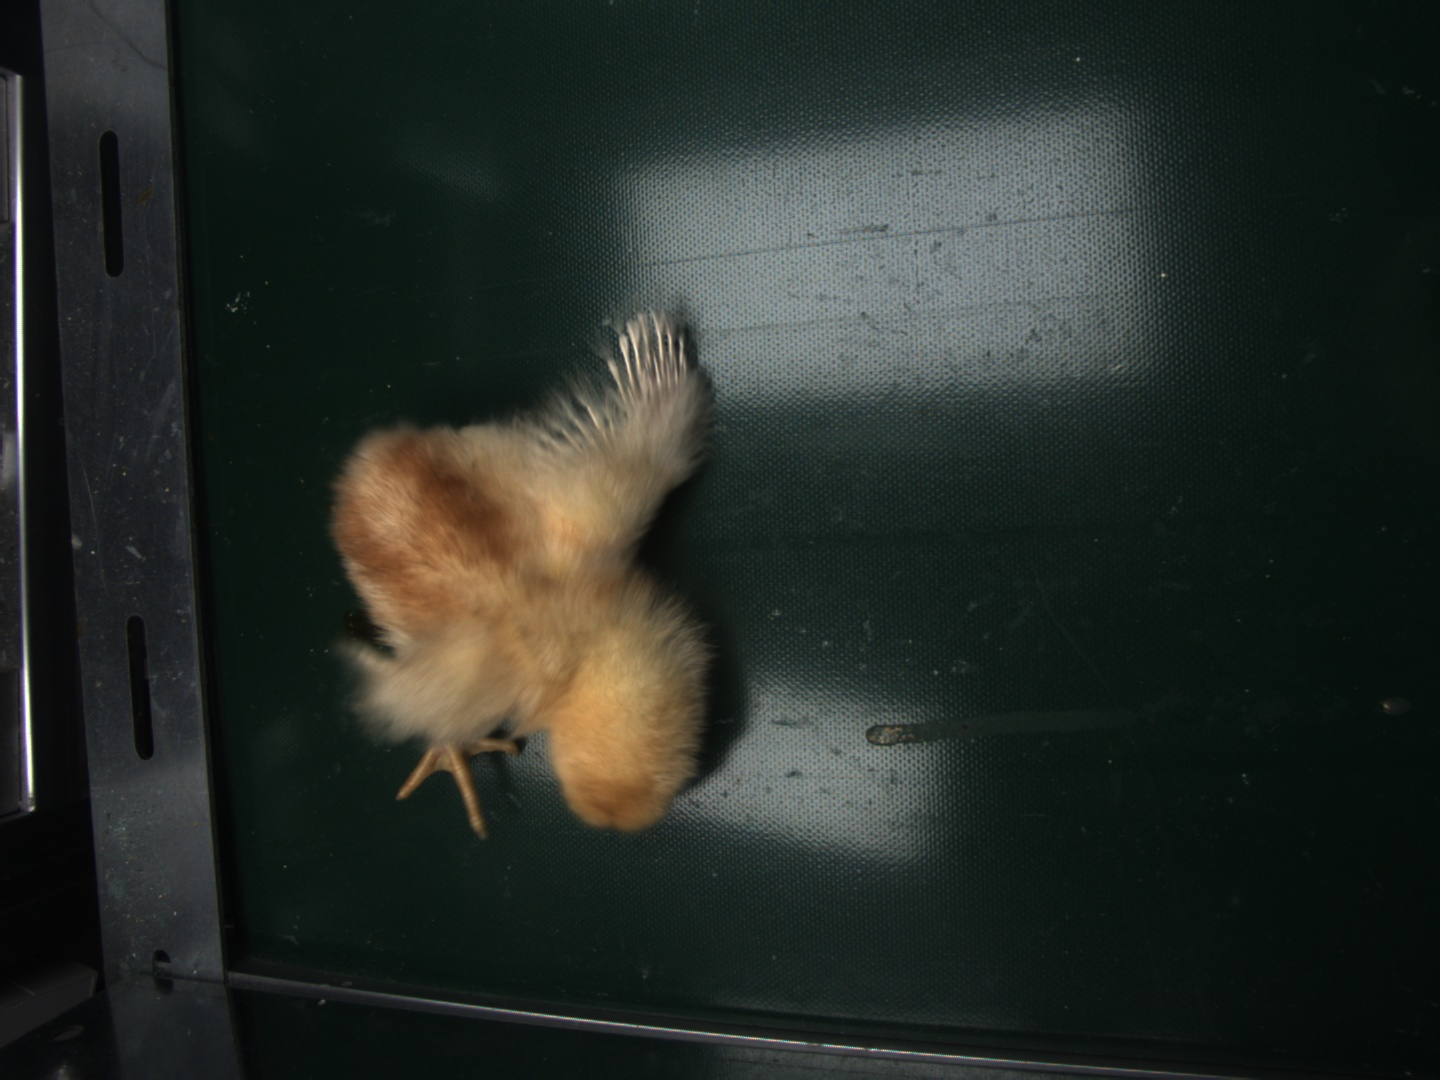female: (611, 310, 687, 410)
